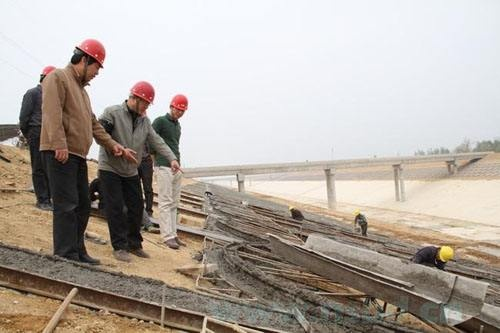red: (71, 39, 106, 80), (130, 81, 153, 114), (168, 95, 188, 120)
yellow: (436, 242, 452, 264)
